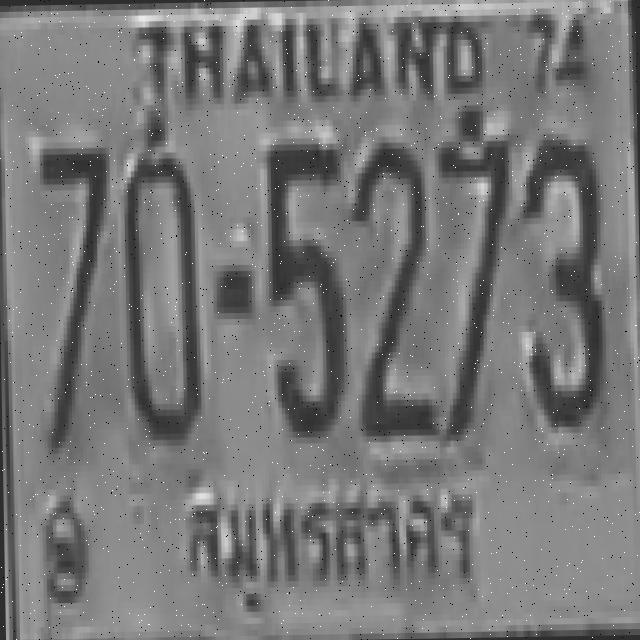0: (119, 140, 198, 440)
2: (352, 139, 427, 433)
3: (522, 133, 604, 421)
5: (263, 138, 345, 432)
7: (434, 128, 513, 434), (36, 142, 110, 448)
SamutSakhon: (176, 467, 489, 628)
